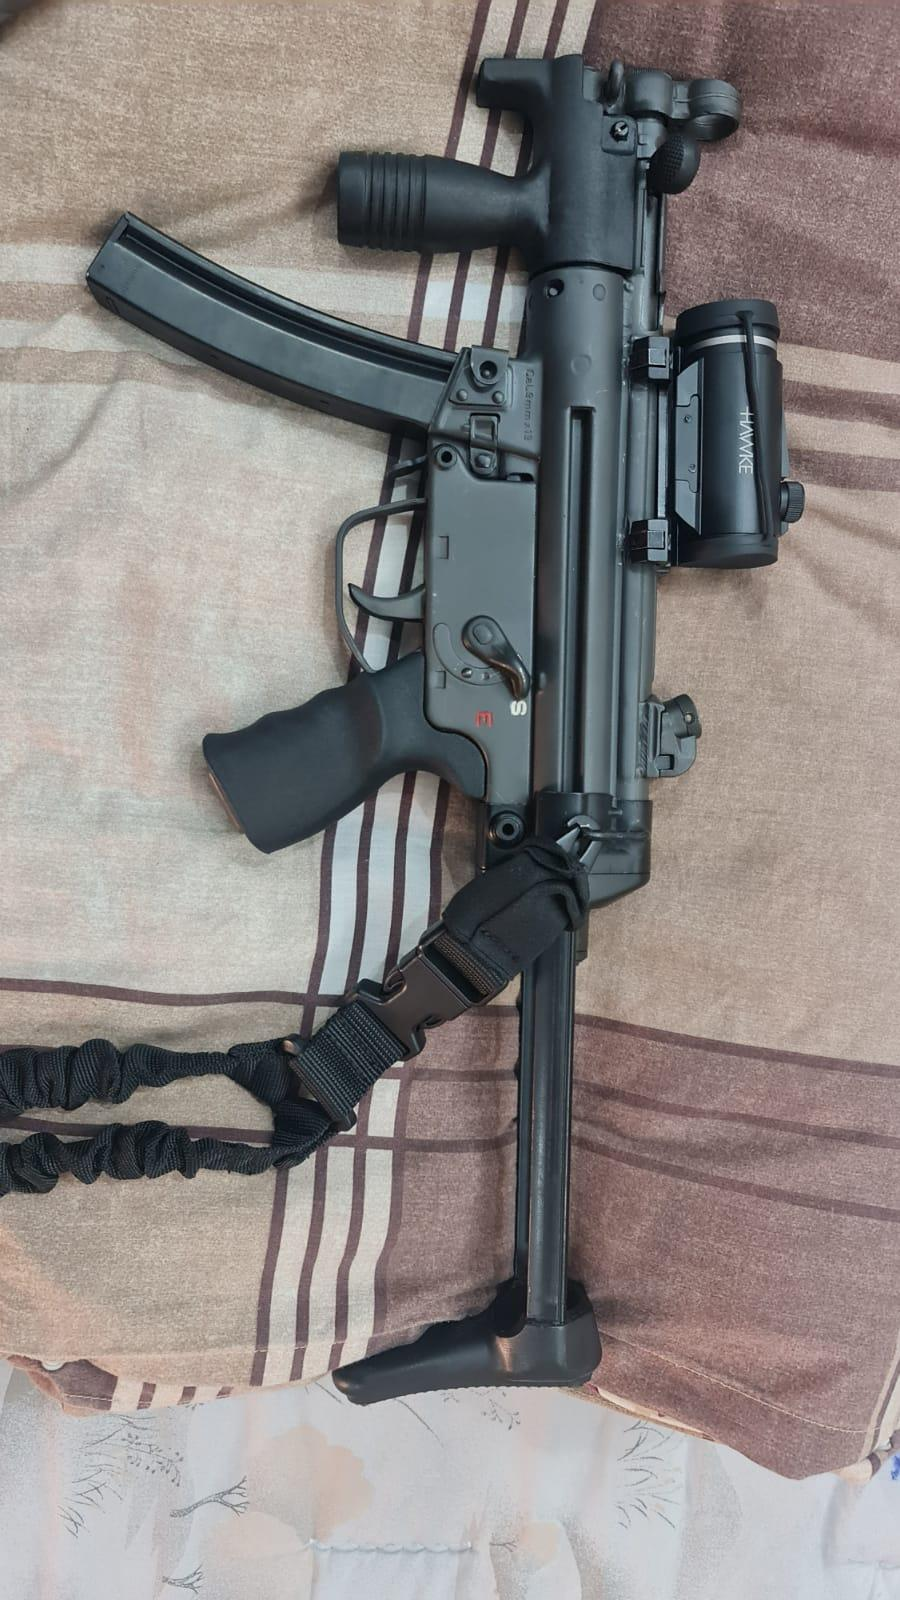weapon: (85, 57, 804, 1405)
